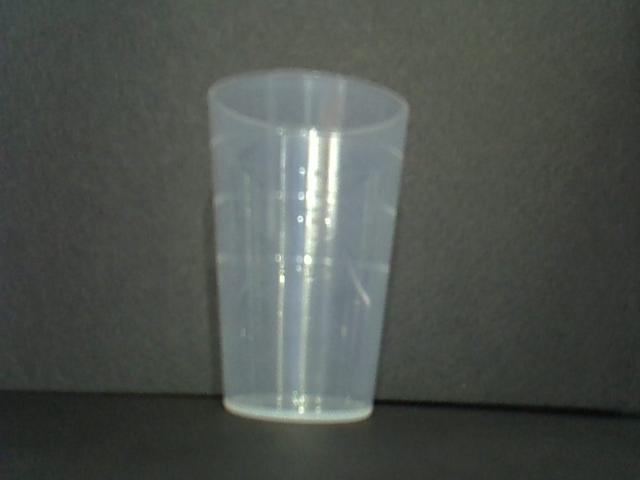cup: (201, 67, 410, 427)
